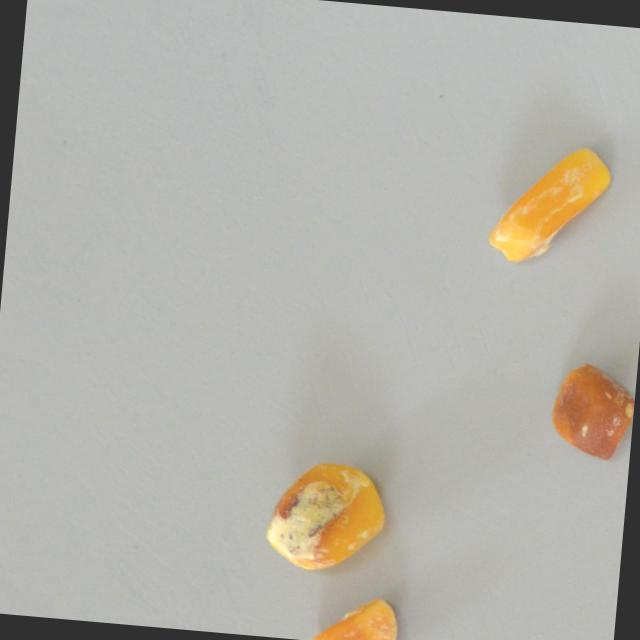dañado: (263, 454, 391, 572), (547, 357, 637, 462), (312, 589, 401, 640)
pelicula: (482, 134, 613, 269)
